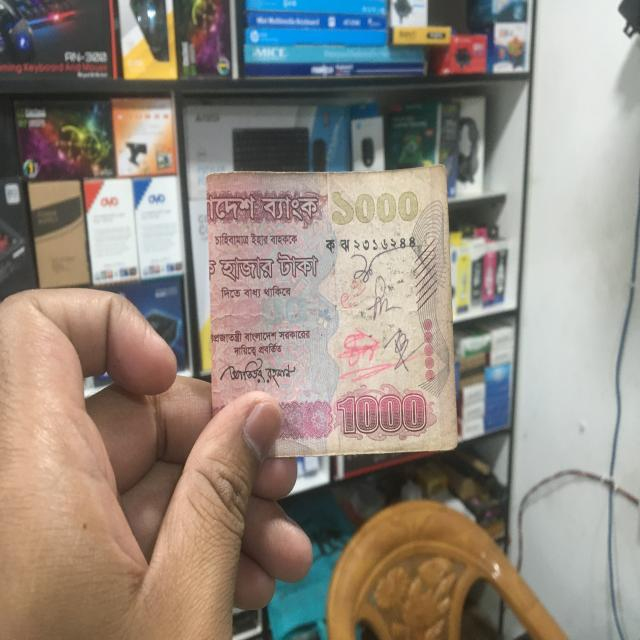Taka: (208, 172, 455, 460)
